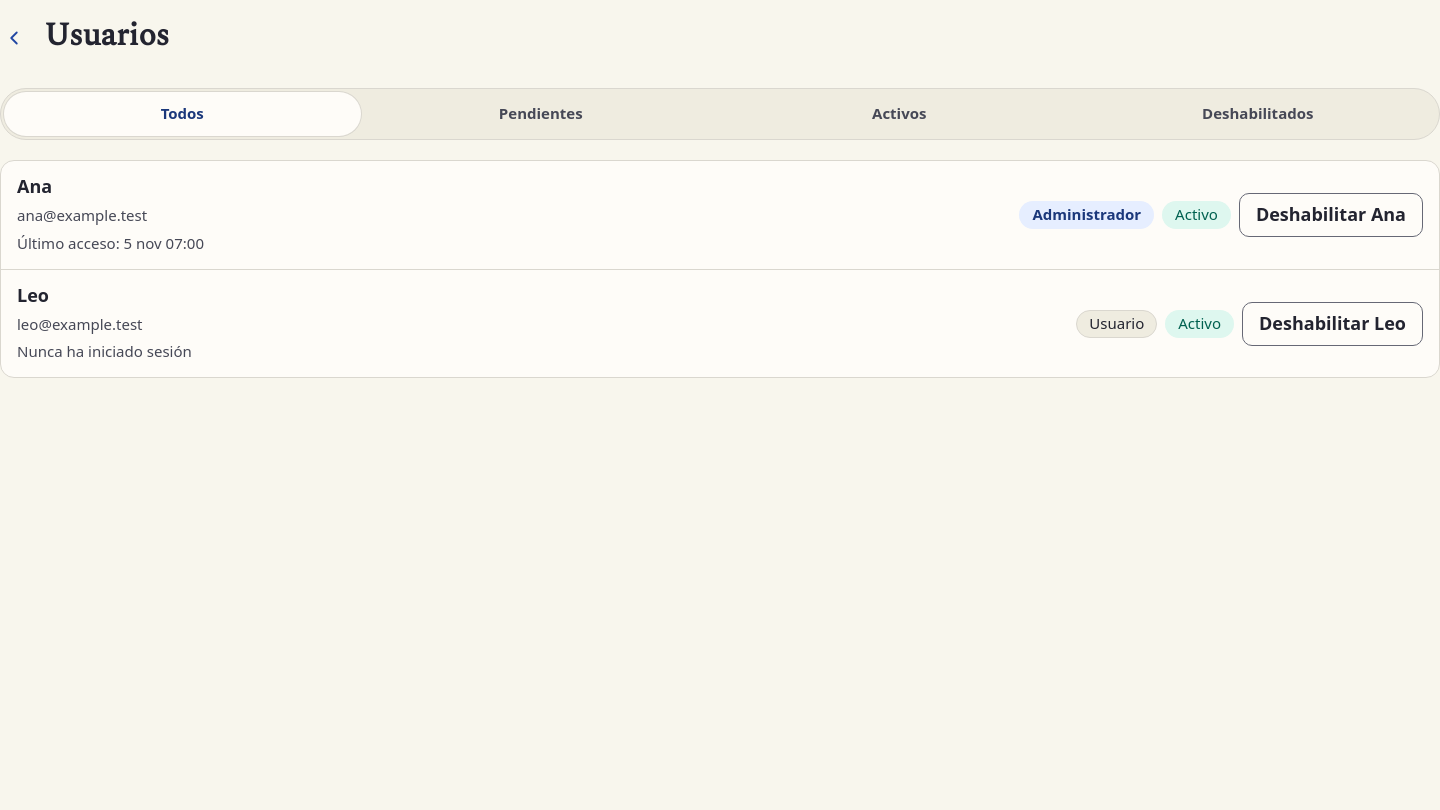
Scenario: filtra usuarios pendientes y aprueba una cuenta de Google
This screenshot has width=1440, height=810.
Expected: the text "Ana" is shown, [17,174,52,198]
Click the radio button labelled "Pendientes": (541, 114) [362,92,719,136]
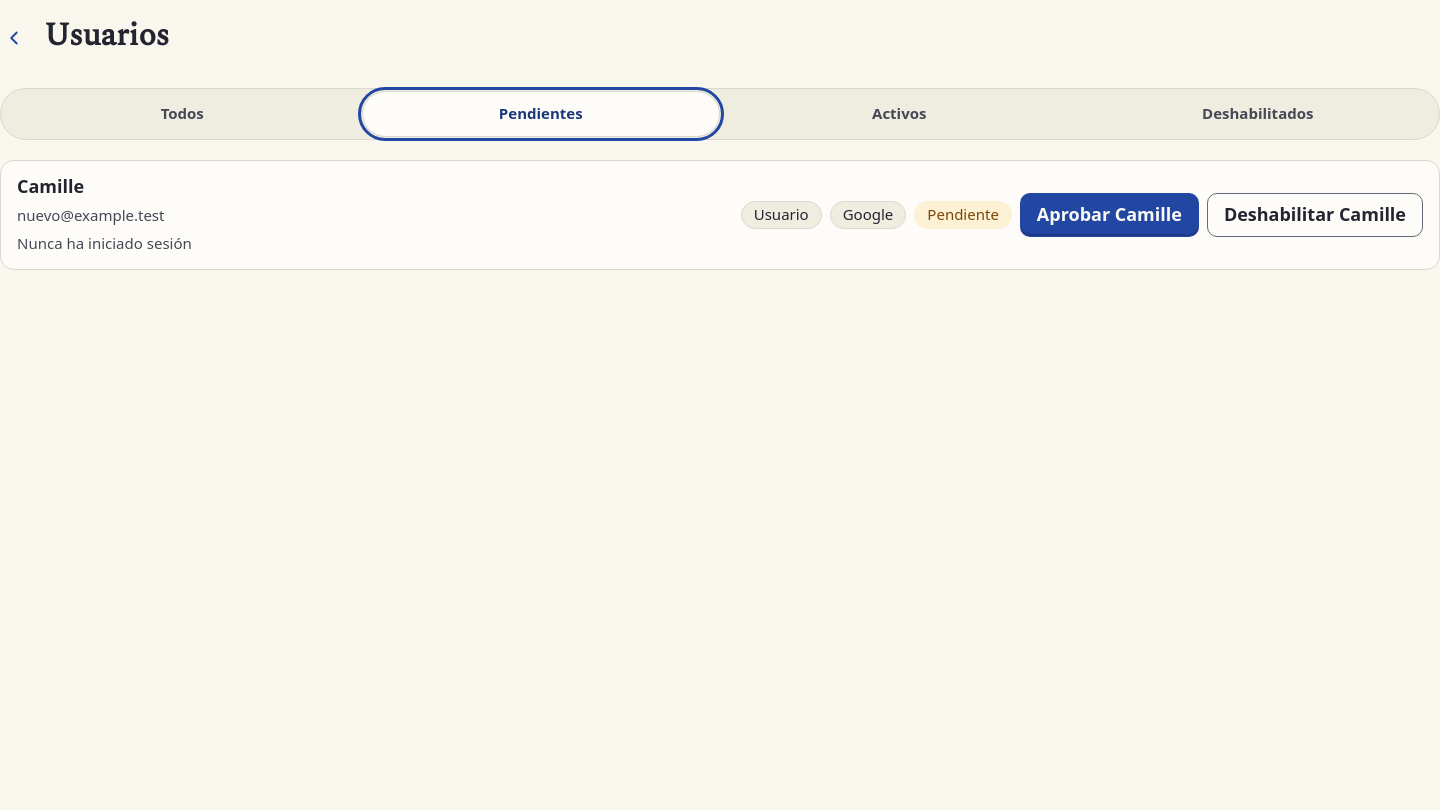
Expected: the text "Camille" is shown, [17,174,84,198]
Expected: the text "Google" is shown, [830,201,906,229]
Expected: the text "Pendiente" is shown, [914,201,1012,229]
Click the button "Aprobar Camille": (1109, 215) [1020,193,1199,237]
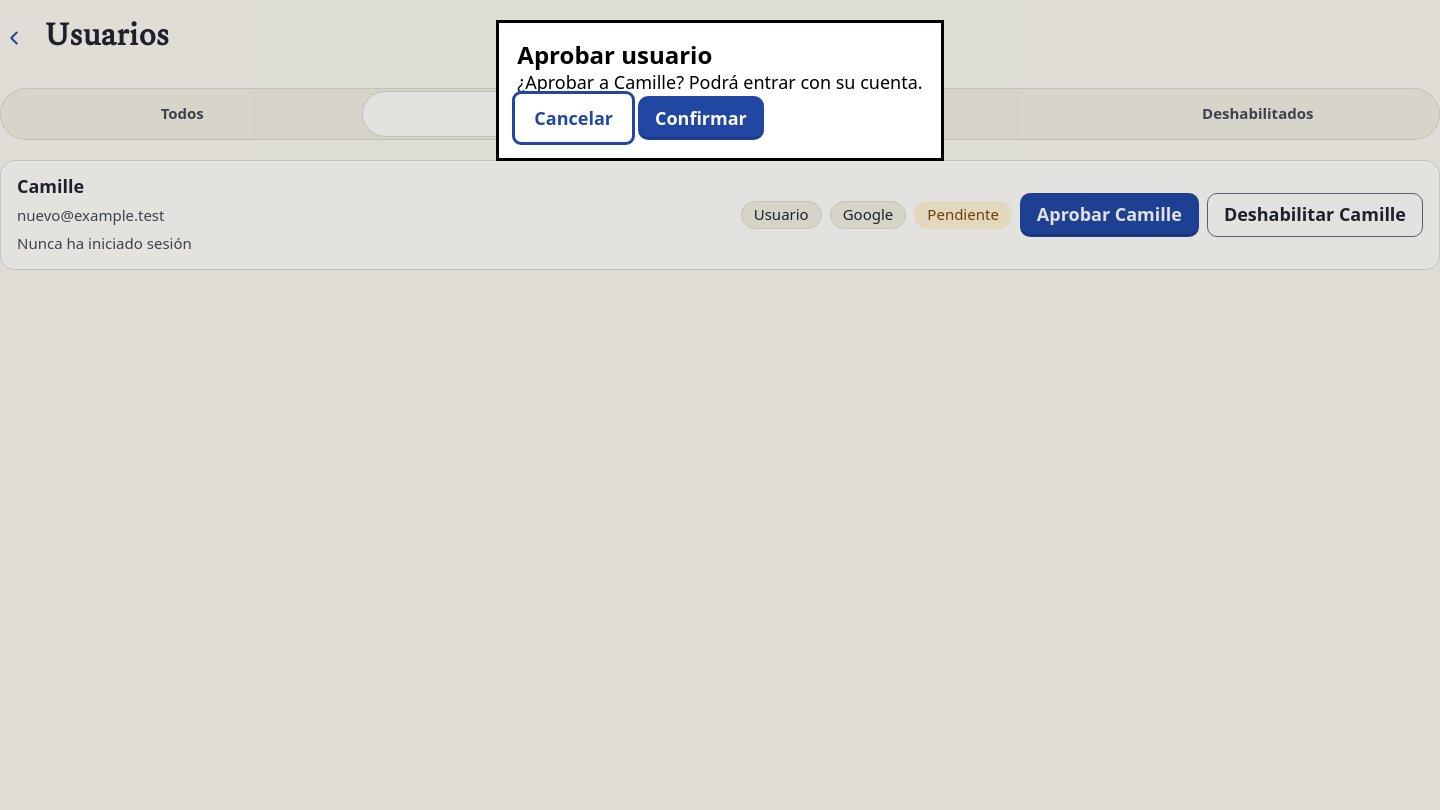
Click the button "Confirmar": (701, 118) [638,96,764,140]
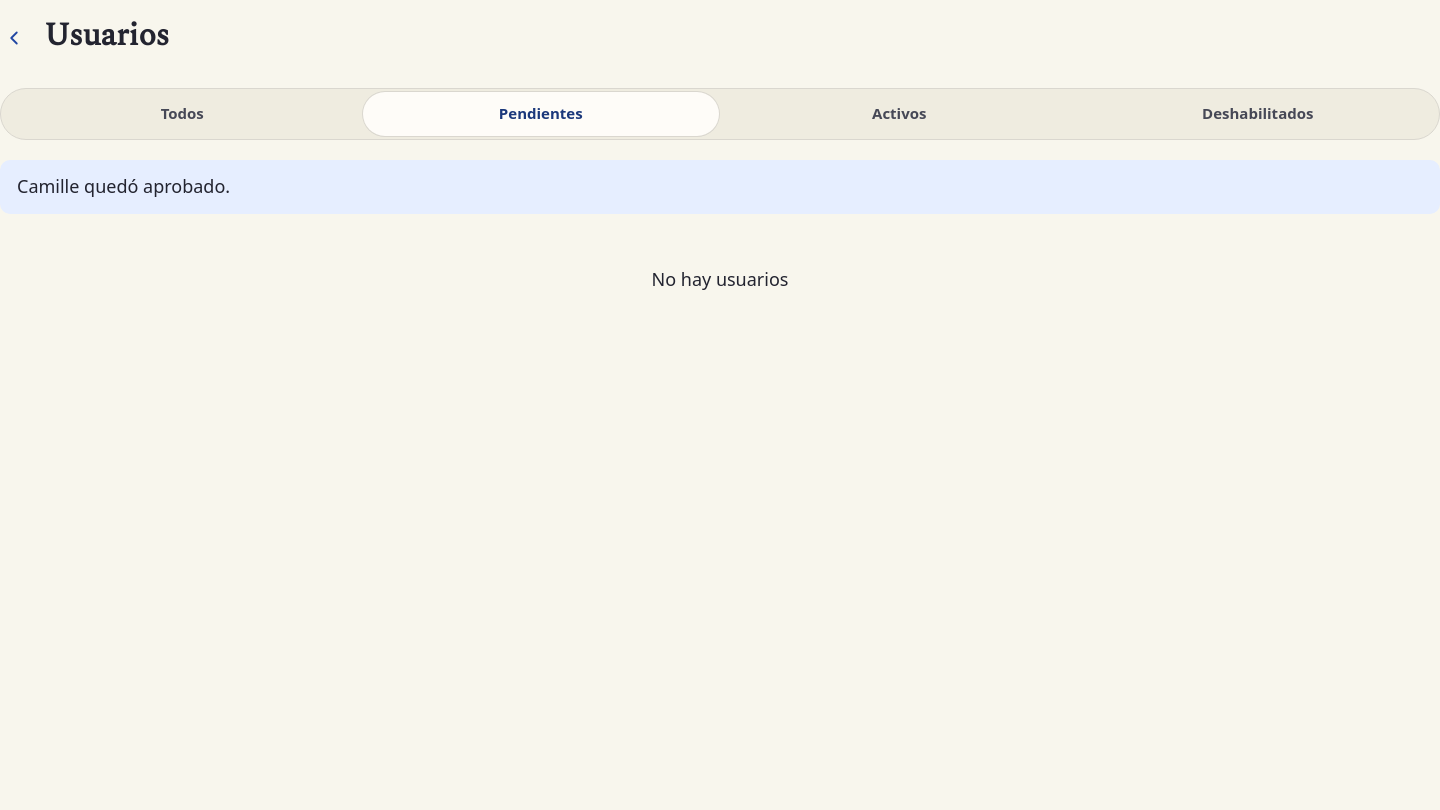
Expected: the message reads "Camille quedó aprobado.", [17,174,230,198]
